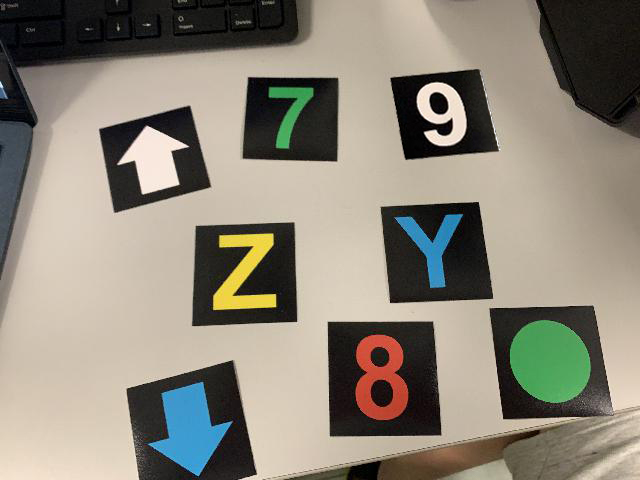alphabet_y: (378, 200, 496, 304)
alphabet_z: (191, 220, 299, 332)
down_arrow: (124, 358, 262, 479)
eight: (326, 320, 443, 438)
go: (488, 304, 616, 419)
nine: (391, 68, 502, 163)
seven: (241, 74, 340, 164)
up_arrow: (98, 104, 212, 214)
